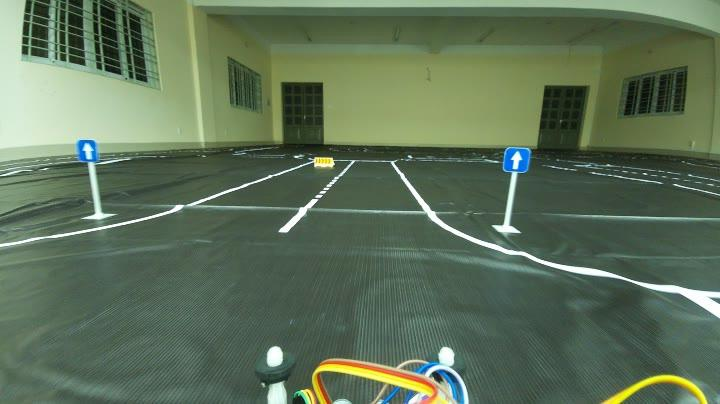onewayroad: (70, 140, 103, 164), (502, 144, 528, 173)
roadblock: (312, 156, 332, 171)
